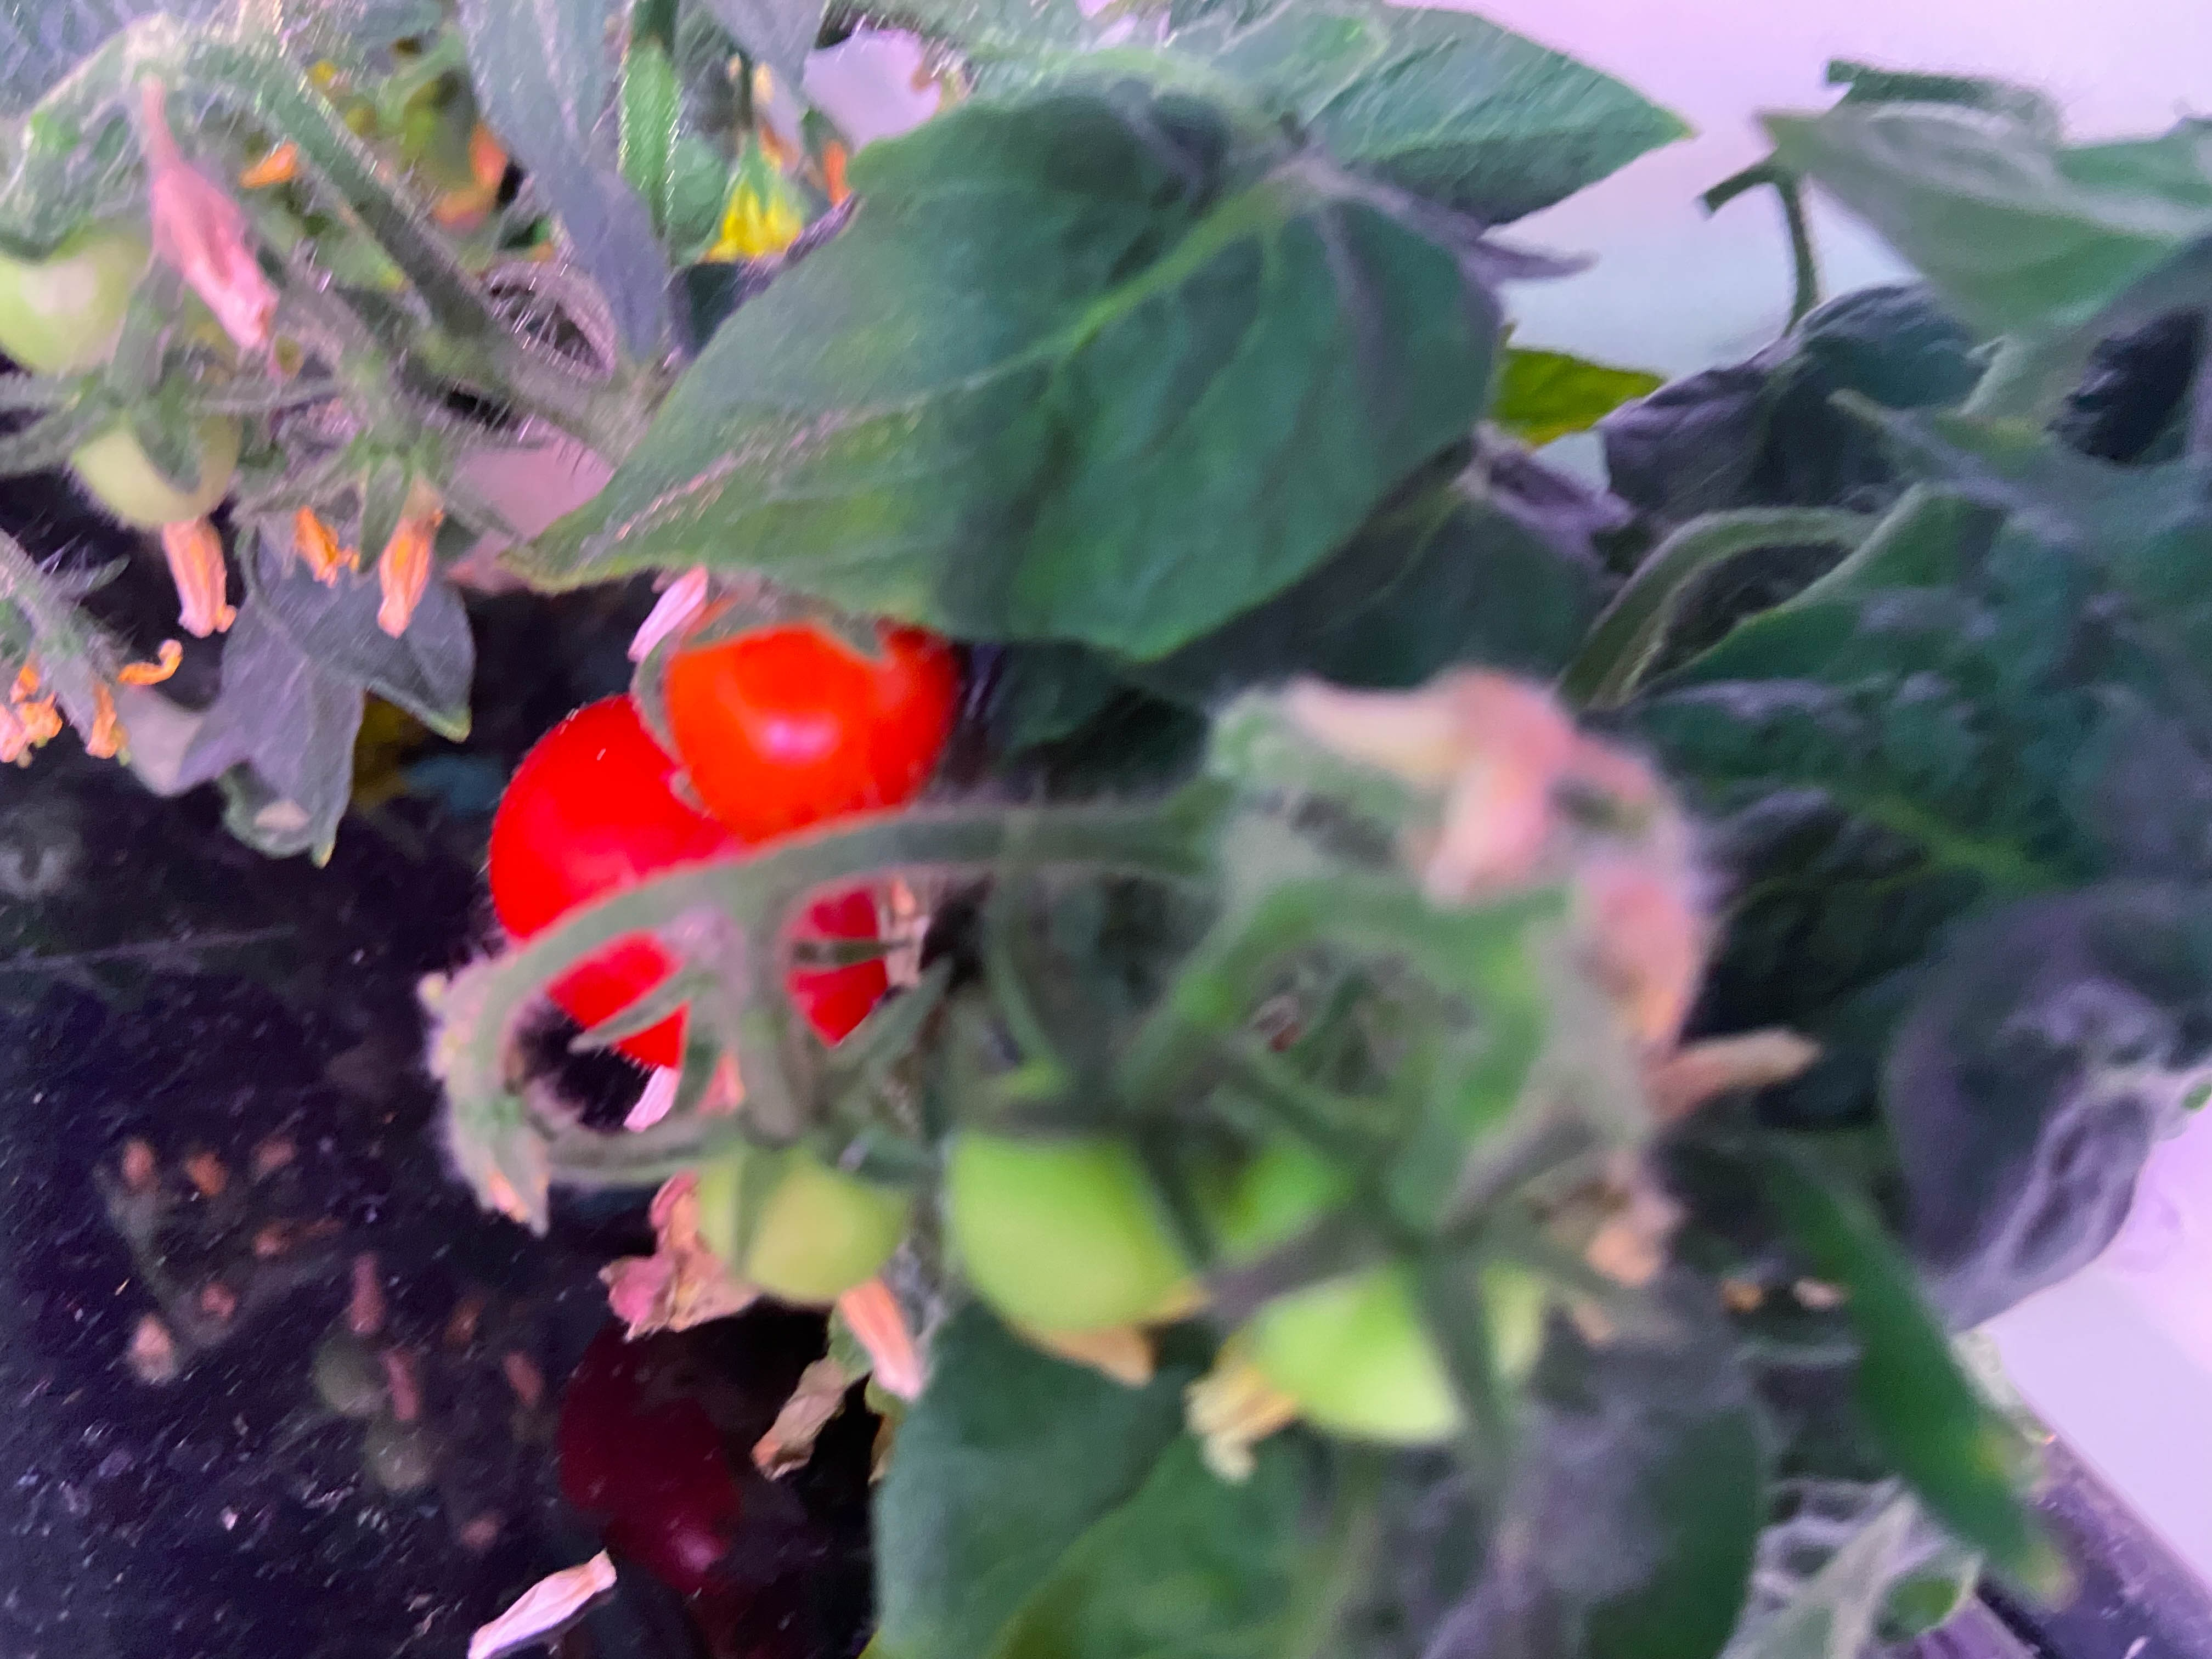green: (937, 1072, 1244, 1352), (1231, 1239, 1541, 1445), (690, 1107, 916, 1312), (0, 178, 188, 373), (63, 373, 239, 532)
red: (475, 685, 899, 1093), (657, 577, 963, 843)
